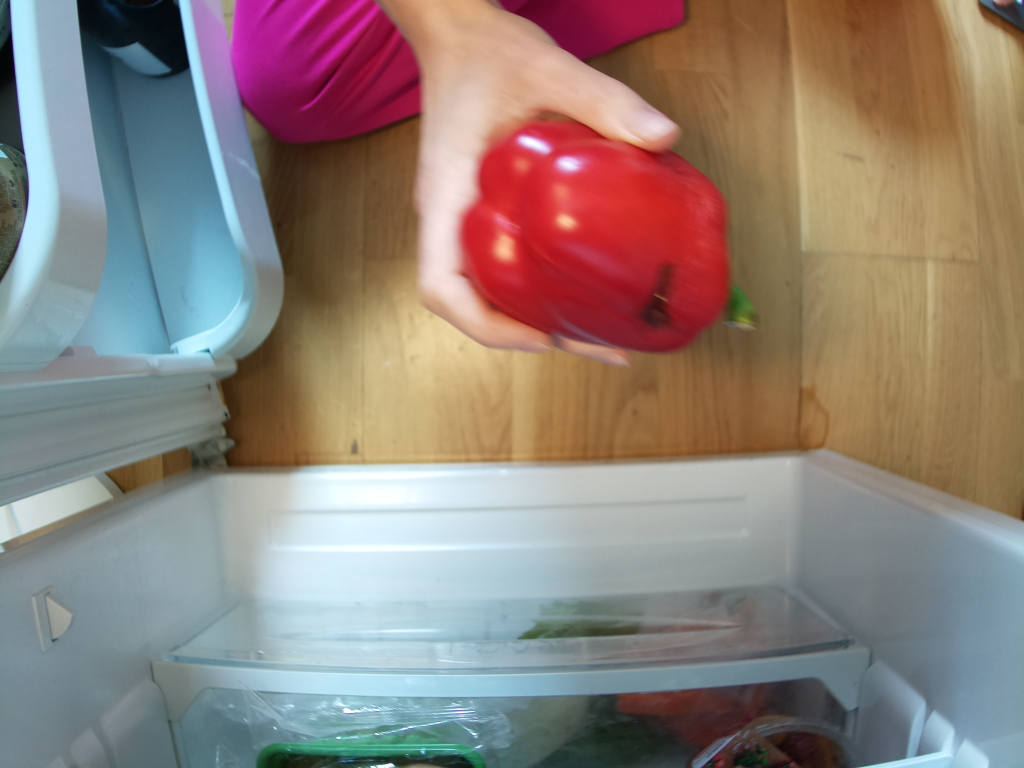pepper-bad: (457, 114, 776, 360)
